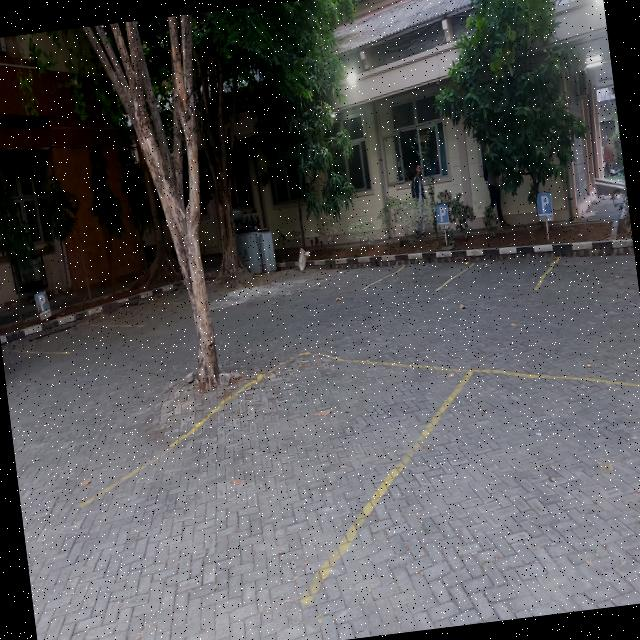empty: (75, 350, 472, 607), (301, 361, 640, 620), (7, 321, 144, 355), (433, 255, 562, 291), (358, 262, 477, 293)
